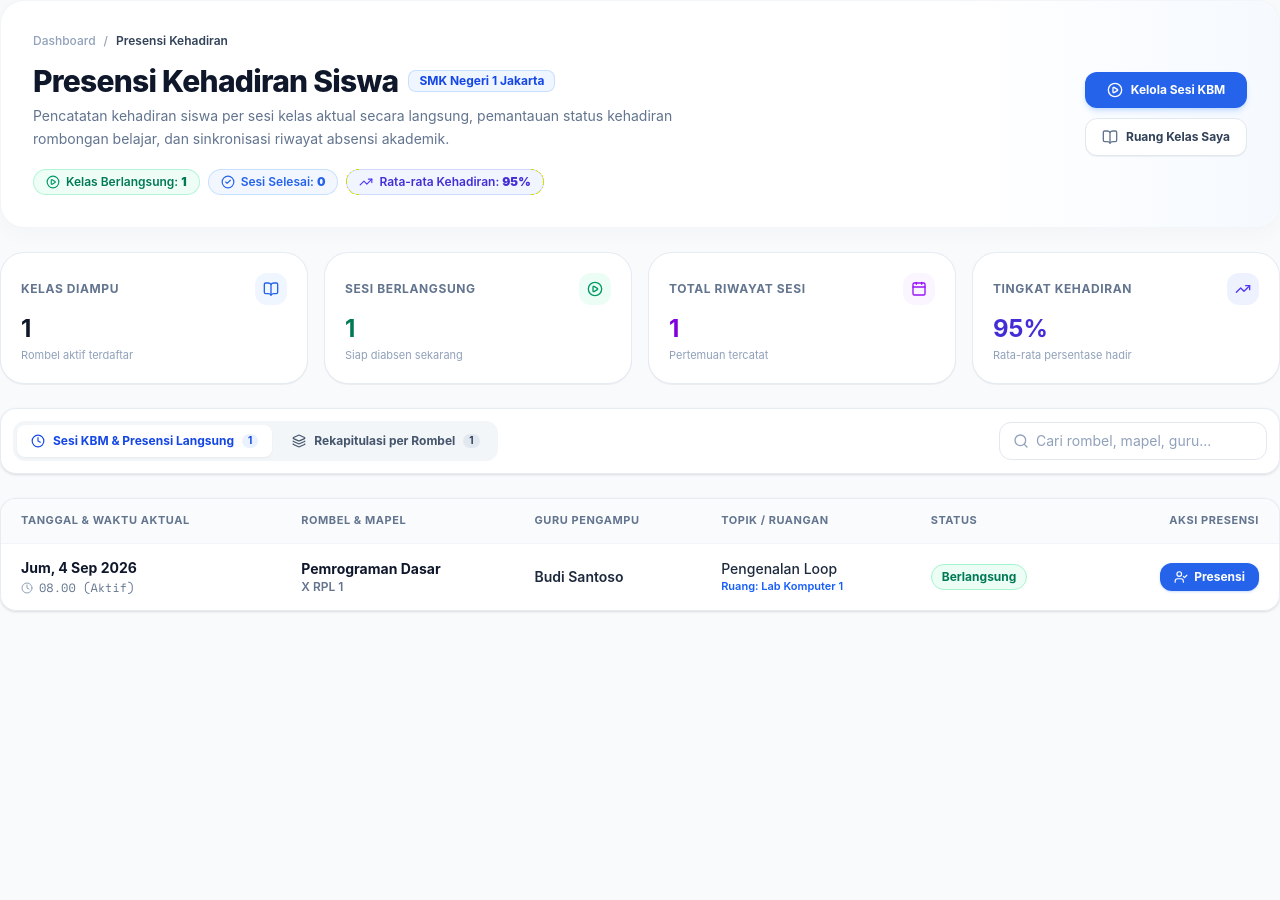
Test: ClassAttendanceOverview (/presensi-kelas) › beralih tab ke rekapitulasi per rombel saat tombol tab ditekan
Click the button "Rekapitulasi per Rombel 1".
click(386, 441)  # box [278,425,494,457]
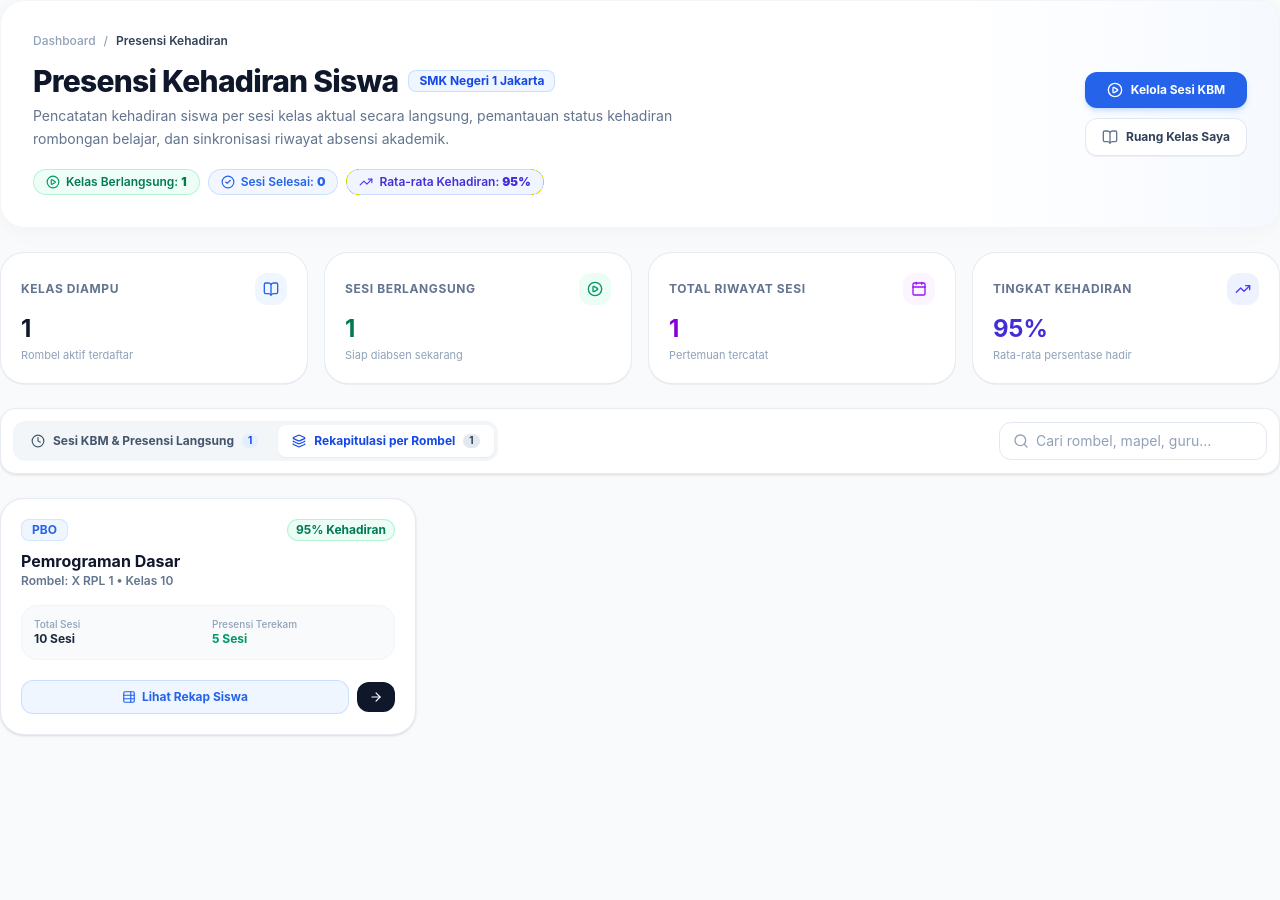
Check: the text "95% Kehadiran" is shown, box [287,519,395,541]
Check: the text "Lihat Rekap Siswa" is shown, box [142,689,248,705]
